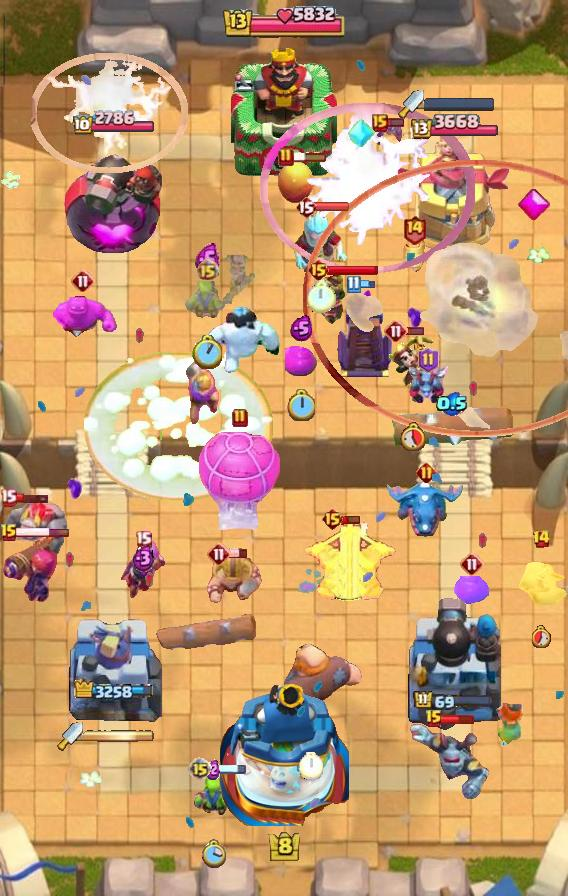bandit: (514, 553, 568, 605)
bar: (327, 264, 379, 276), (16, 527, 70, 538), (210, 763, 247, 775), (14, 492, 50, 504), (292, 151, 328, 163), (314, 201, 350, 212), (441, 714, 475, 725), (341, 514, 361, 525), (358, 278, 376, 290), (229, 548, 248, 559), (386, 117, 405, 128), (406, 326, 425, 336)
bar-level: (402, 214, 427, 245), (188, 757, 212, 781), (460, 552, 484, 576), (207, 542, 231, 566), (384, 319, 408, 343), (71, 269, 95, 293), (321, 507, 344, 531), (307, 258, 330, 282), (418, 347, 439, 373), (196, 258, 219, 281), (295, 195, 317, 219), (416, 462, 437, 483), (532, 529, 551, 549), (425, 709, 443, 729), (0, 523, 18, 543), (135, 530, 152, 549), (0, 488, 17, 507), (232, 408, 248, 428), (278, 147, 294, 167), (372, 114, 388, 132), (346, 275, 361, 294)
bat: (373, 120, 405, 148)
cannoneer-tower: (405, 595, 501, 731), (64, 138, 164, 256)
clock: (192, 335, 222, 369), (307, 280, 336, 313), (287, 389, 315, 421), (201, 839, 226, 869), (400, 422, 425, 451), (299, 752, 323, 780), (532, 625, 551, 648)
dagger-duchess-tower: (394, 142, 512, 256), (66, 611, 162, 731)
dagger-duchess-tower-bar: (83, 729, 155, 743), (424, 97, 496, 111)
dirt: (215, 255, 259, 304)
electro-dragon: (387, 478, 465, 540)
elite-barbarian: (205, 555, 267, 607)
elixir: (195, 243, 220, 276), (436, 392, 468, 416), (132, 544, 155, 572), (290, 315, 313, 342), (206, 758, 220, 780)
elixir-golem-mid: (48, 288, 118, 346)
elixir-golem-small: (454, 576, 490, 606), (285, 346, 317, 376)
evolution-symbol: (518, 188, 550, 222)
firecracker-evolution: (0, 530, 58, 604)
goblin: (191, 769, 235, 824), (185, 281, 229, 323)
golemite: (0, 496, 68, 556)
ice-spirit-evolution-symbol: (347, 116, 375, 150)
ice-wizard: (292, 209, 350, 273)
king-tower: (220, 678, 349, 826), (231, 43, 337, 181)
king-tower-bar: (221, 3, 347, 43)
lava-pup: (400, 237, 428, 273)
little-prince: (388, 334, 436, 402), (311, 272, 349, 328)
mega-minion: (406, 721, 490, 799)
minion: (407, 366, 449, 404)
mother-witch: (117, 538, 169, 600)
musketeer: (184, 360, 224, 424)
phoenix-egg: (276, 157, 314, 205)
the-log: (389, 402, 515, 452), (152, 612, 258, 656)
tower-bar: (408, 114, 498, 142), (72, 110, 156, 137), (74, 679, 155, 703), (413, 690, 493, 712)
valkyrie: (490, 698, 528, 750)
